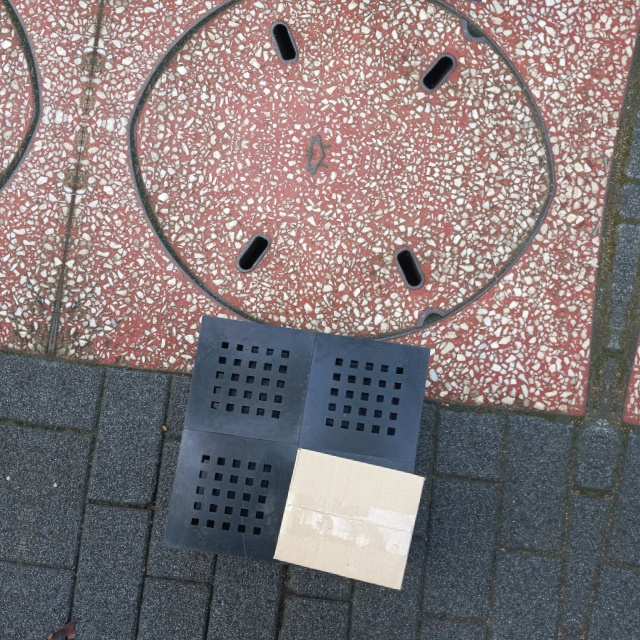box: (272, 447, 426, 592)
pallet: (149, 302, 440, 589)
